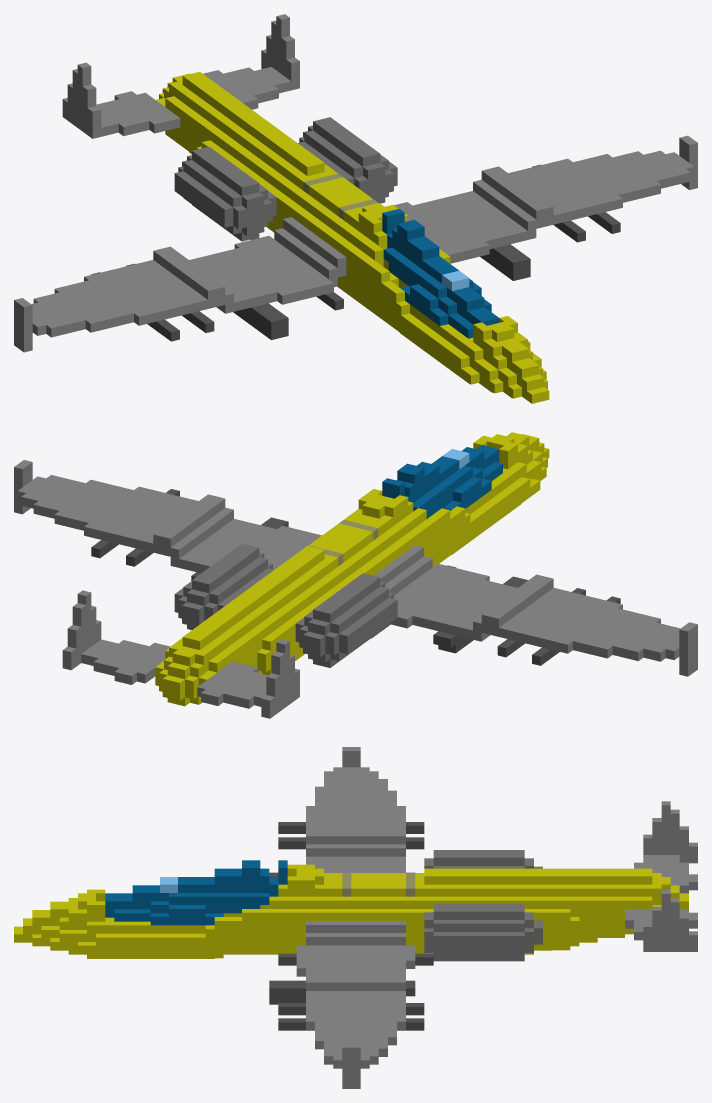
The model's file is GDIA10.obj.
3 renders of one model, top to bottom at view 1: azimuth 30°, elevation 25°; view 2: azimuth 150°, elevation 25°; view 3: azimuth 270°, elevation 25°, orthographic. The views are drawn at different scales.
Bounding box in the file's own units: 7.8 × 1.3 × 7.5.
Materials: 1 (1 with a texture image).
